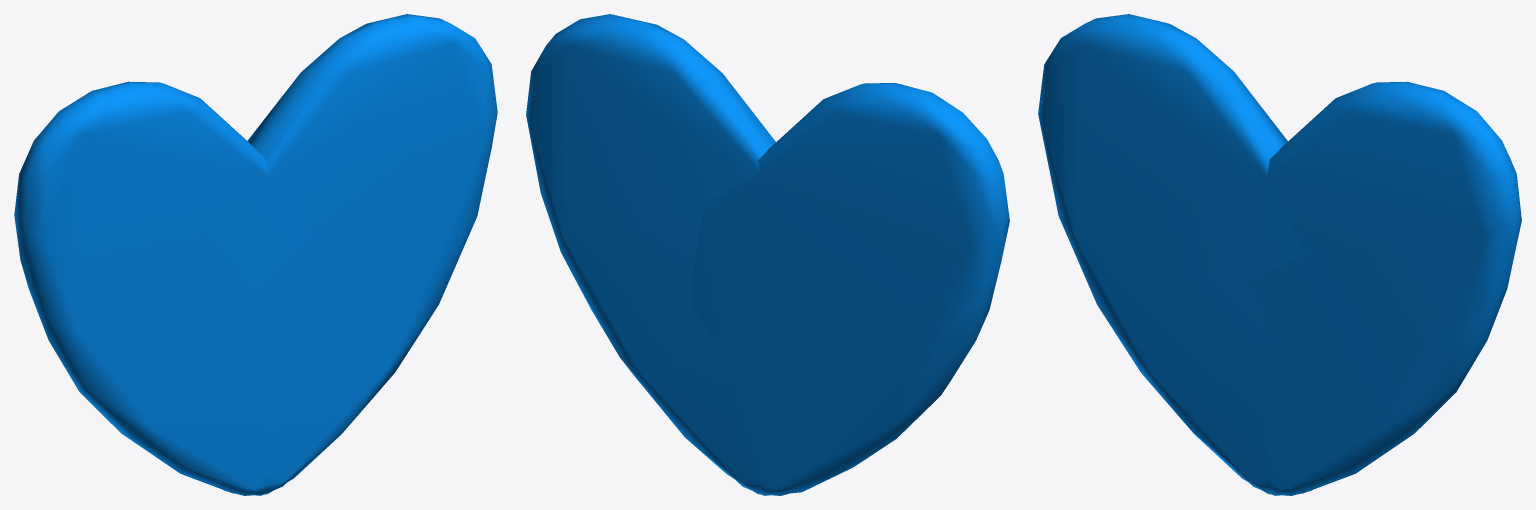
Rendered from PW Aumenta vida.obj.
The picture shows the model from 3 angles, left to right: view 1: azimuth 30°, elevation 25°; view 2: azimuth 150°, elevation 25°; view 3: azimuth 330°, elevation 25°; orthographic projection.
Visible parts, largest first — view 1: Pw_corazón_; view 2: Pw_corazón_; view 3: Pw_corazón_.
Boxes of the visible parts, x1=… form: Pw_corazón_: x1=14, y1=14, x2=497, y2=495; Pw_corazón_: x1=526, y1=14, x2=1009, y2=495; Pw_corazón_: x1=1038, y1=14, x2=1521, y2=495.
Size of the model in its own units: 1.49 by 1.31 by 0.1416.
Materials: 1 (1 with a texture image).
